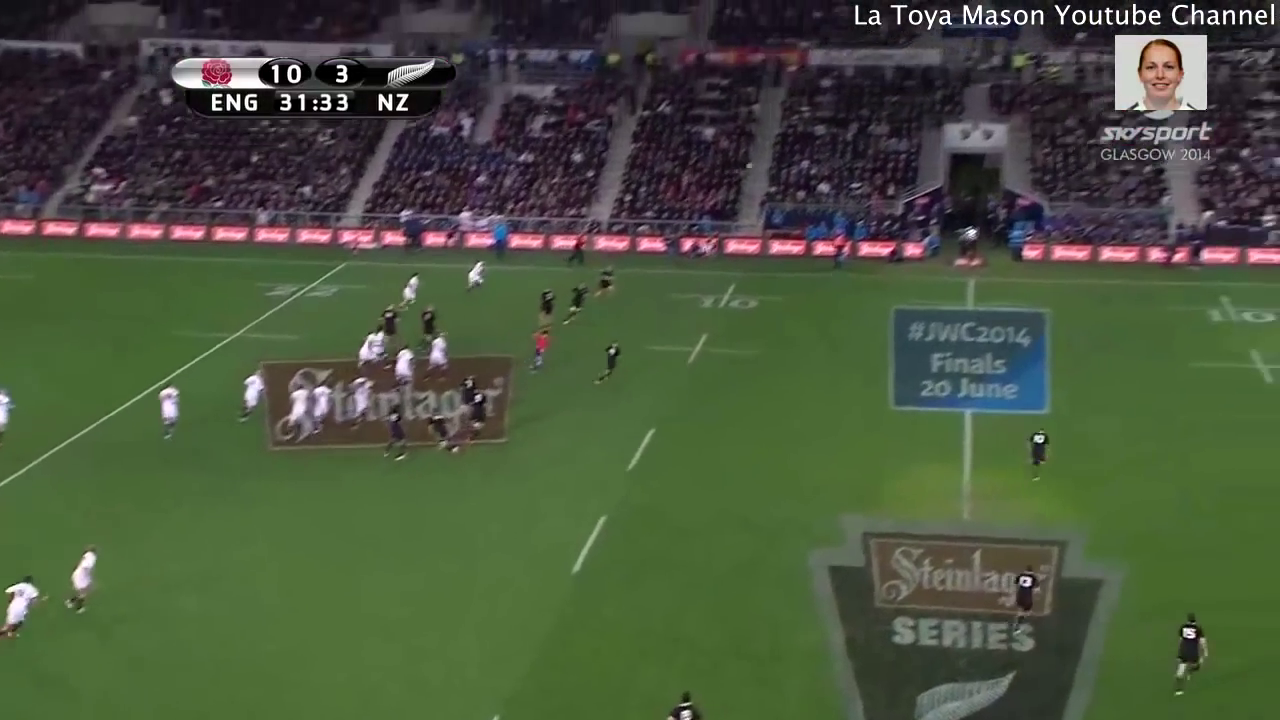player: (1163, 608, 1213, 701), (1, 573, 48, 648), (1006, 562, 1046, 643), (59, 547, 103, 620), (233, 367, 269, 428), (153, 381, 186, 444), (1023, 425, 1054, 488), (419, 412, 461, 454), (589, 336, 623, 387), (386, 408, 411, 466), (422, 328, 450, 379), (662, 688, 706, 720), (354, 317, 379, 371), (311, 380, 335, 436), (561, 280, 585, 335), (525, 329, 551, 378), (347, 375, 371, 428), (465, 390, 492, 436), (592, 262, 617, 310), (379, 298, 402, 346), (461, 256, 490, 294), (393, 342, 415, 392), (288, 380, 309, 432), (533, 288, 557, 328), (399, 267, 423, 304), (414, 304, 434, 345), (1, 387, 14, 440), (456, 373, 473, 407)
